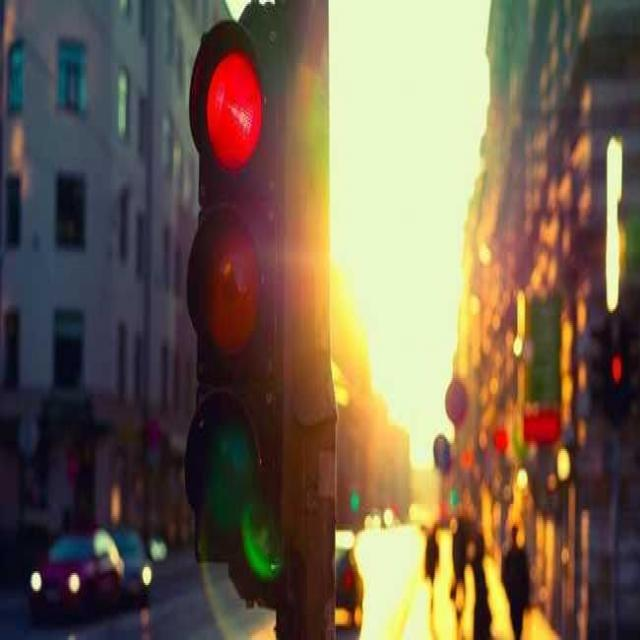red_light: (186, 20, 282, 550)
